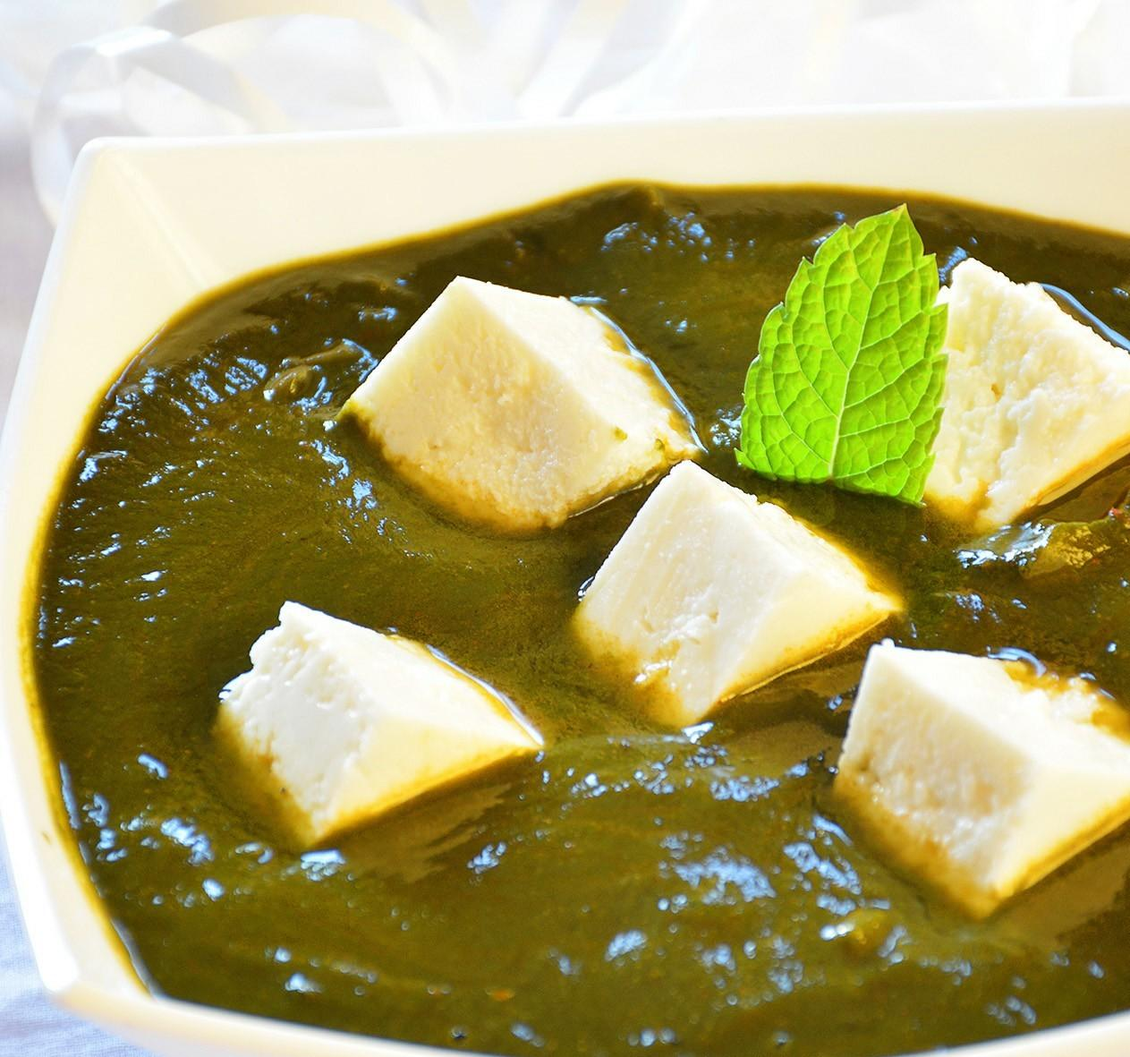PalakPaneer: (41, 188, 1130, 1057)
